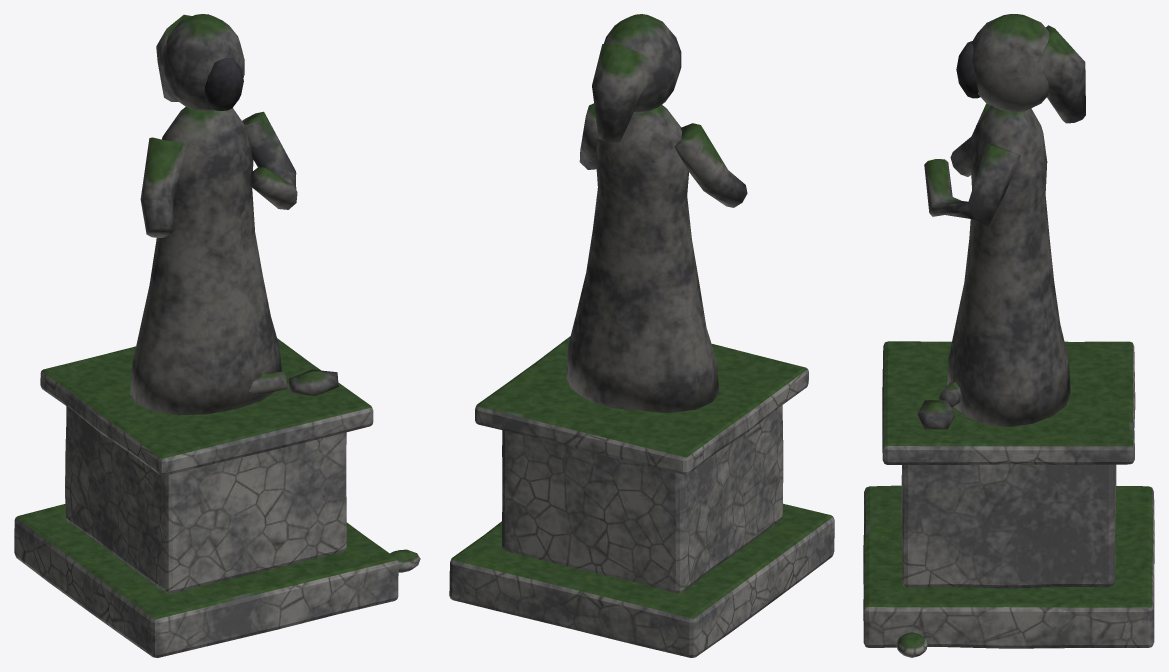
The model's file is ruined_statue.glb.
The picture shows the model from 3 angles, left to right: view 1: azimuth 30°, elevation 25°; view 2: azimuth 150°, elevation 25°; view 3: azimuth 270°, elevation 25°; orthographic projection. The views are drawn at different scales.
Visible parts, largest first — view 1: ruined_statue; view 2: ruined_statue; view 3: ruined_statue.
Part boxes in pixels (x1,y1,x2,y2): ruined_statue: [14, 14, 420, 657]; ruined_statue: [449, 14, 834, 657]; ruined_statue: [863, 14, 1154, 657].
Bounding box in the file's own units: 1.76 × 3.26 × 1.5.
Materials: 1 (1 with a texture image).
